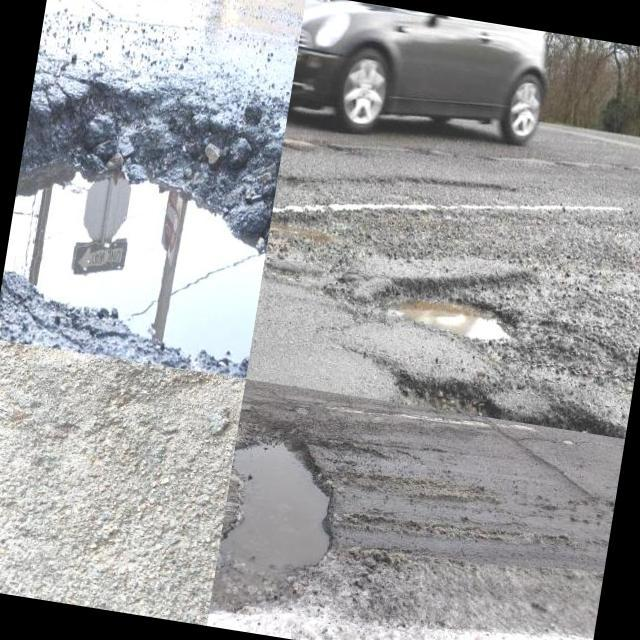Pothole: (3, 81, 282, 361), (219, 413, 332, 606), (375, 285, 517, 341)
